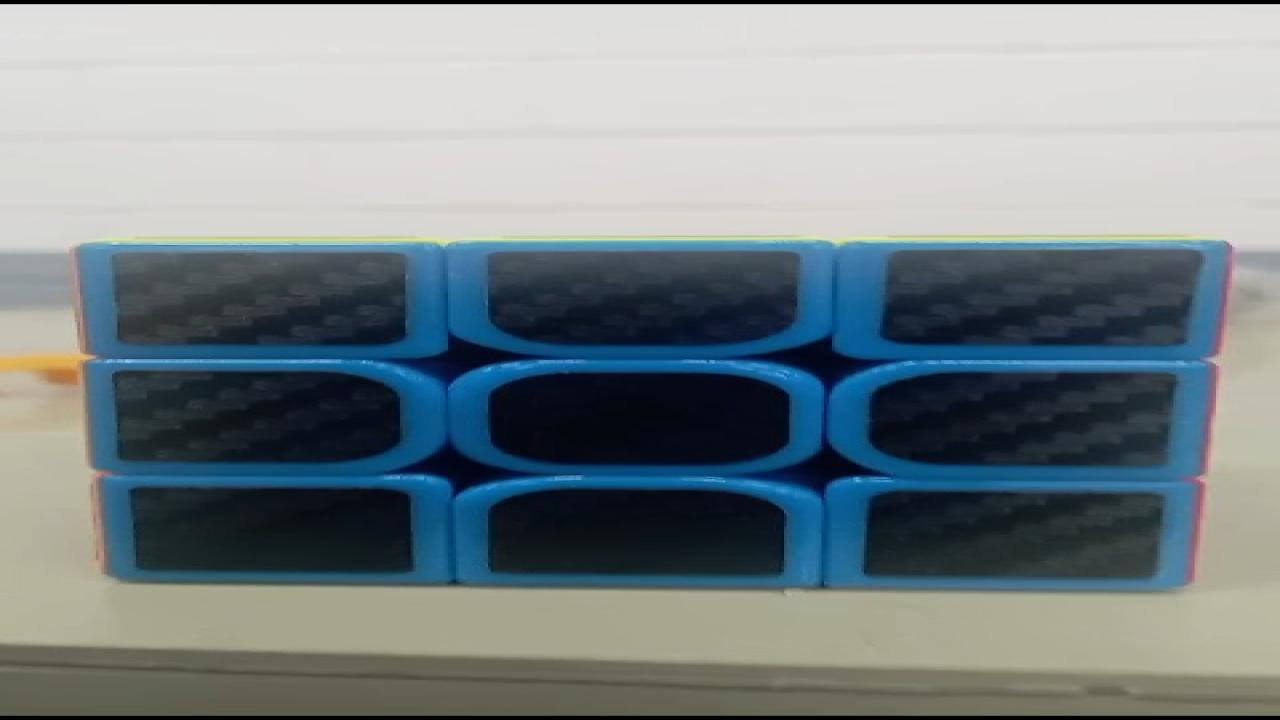Cube: (69, 234, 1235, 592)
